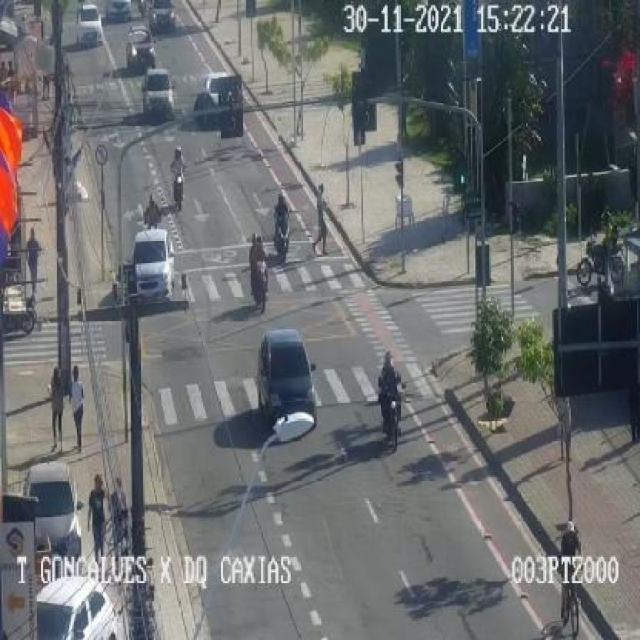Car: (10, 462, 97, 561), (250, 328, 320, 433), (8, 570, 108, 640), (125, 220, 183, 306), (134, 64, 186, 122), (121, 23, 160, 67), (74, 0, 107, 48)
Cycle: (538, 504, 603, 640), (360, 346, 423, 444), (571, 220, 623, 294), (160, 145, 202, 208), (244, 233, 280, 306), (271, 193, 304, 257)
